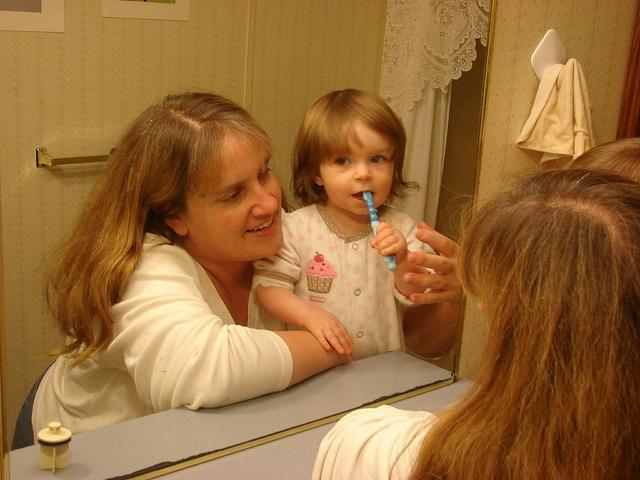cherry: (314, 253, 324, 262)
